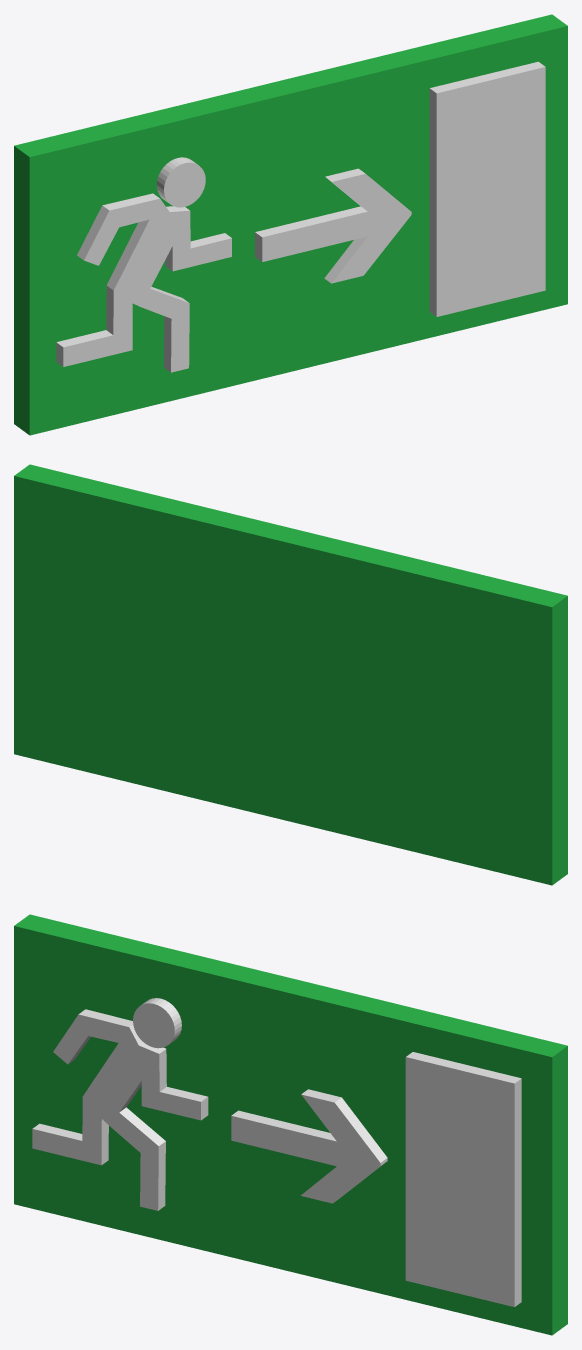
Rendered from ExitSign.fbx.
The picture shows the model from 3 angles, top to bottom: view 1: azimuth 30°, elevation 25°; view 2: azimuth 150°, elevation 25°; view 3: azimuth 330°, elevation 25°; orthographic projection.
Visible parts, largest first — view 1: Cube, Plane; view 2: Cube; view 3: Cube, Plane.
Part boxes in pixels (<box>): Cube: <box>14,14,567,435</box>; Plane: <box>56,61,545,372</box>; Cube: <box>14,464,567,885</box>; Cube: <box>14,914,567,1335</box>; Plane: <box>32,998,521,1306</box>.
Bounding box in the file's own units: 435 × 215 × 32.76.
